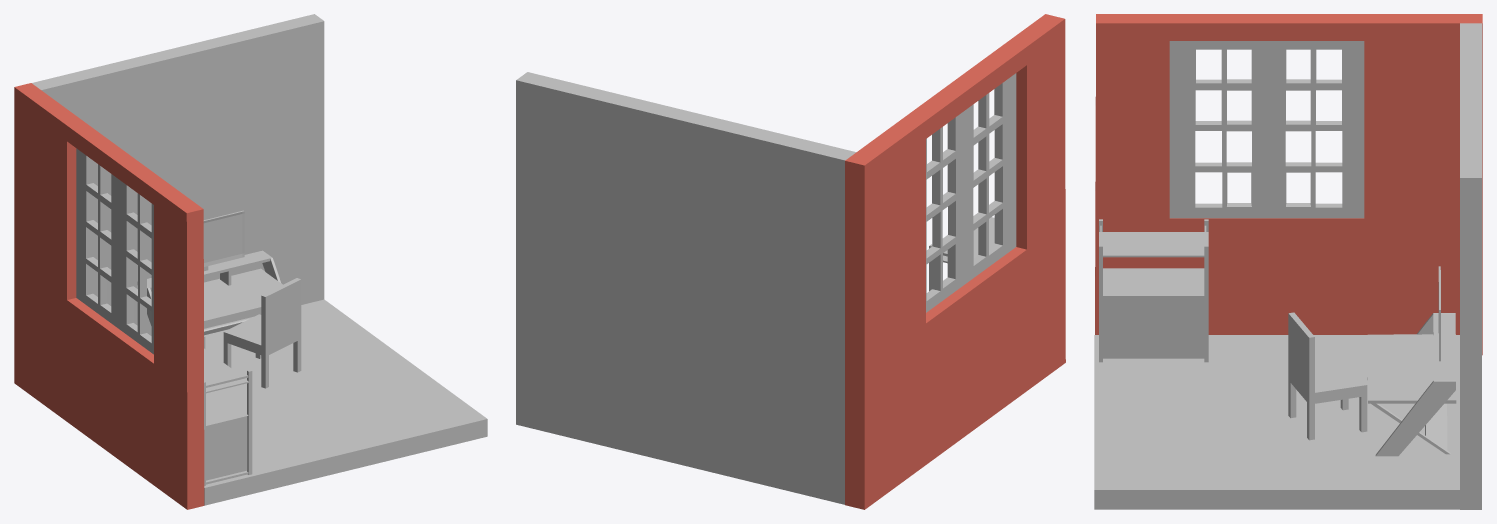
File: SceneVers2.gltf
3 renders of one model, left to right at view 1: azimuth 30°, elevation 25°; view 2: azimuth 150°, elevation 25°; view 3: azimuth 270°, elevation 25°, orthographic. The views are drawn at different scales.
Visible parts, largest first — view 1: Cube; view 2: Cube; view 3: Cube.
Boxes of the visible parts, x1,y1,x2,y2 form: Cube: (14,14,487,509); Cube: (516,14,1065,509); Cube: (1094,14,1482,509).
Bounding box in the file's own units: 2.12 × 2 × 2.12.
